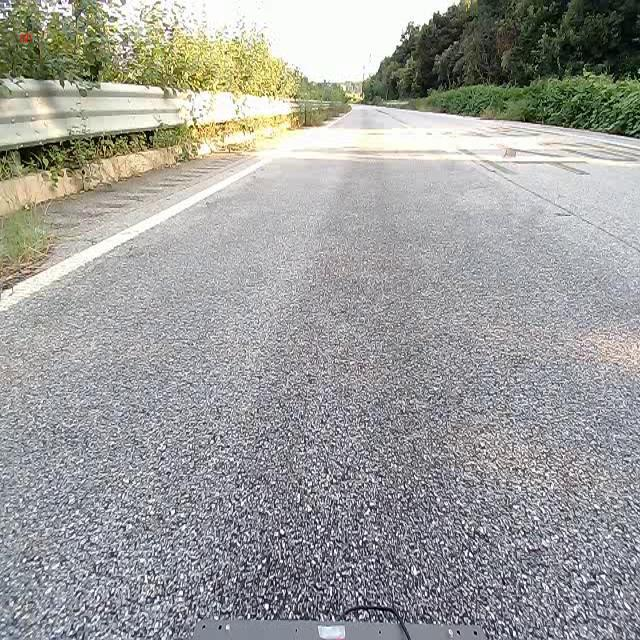Lane: (0, 146, 276, 314), (0, 152, 274, 313)
